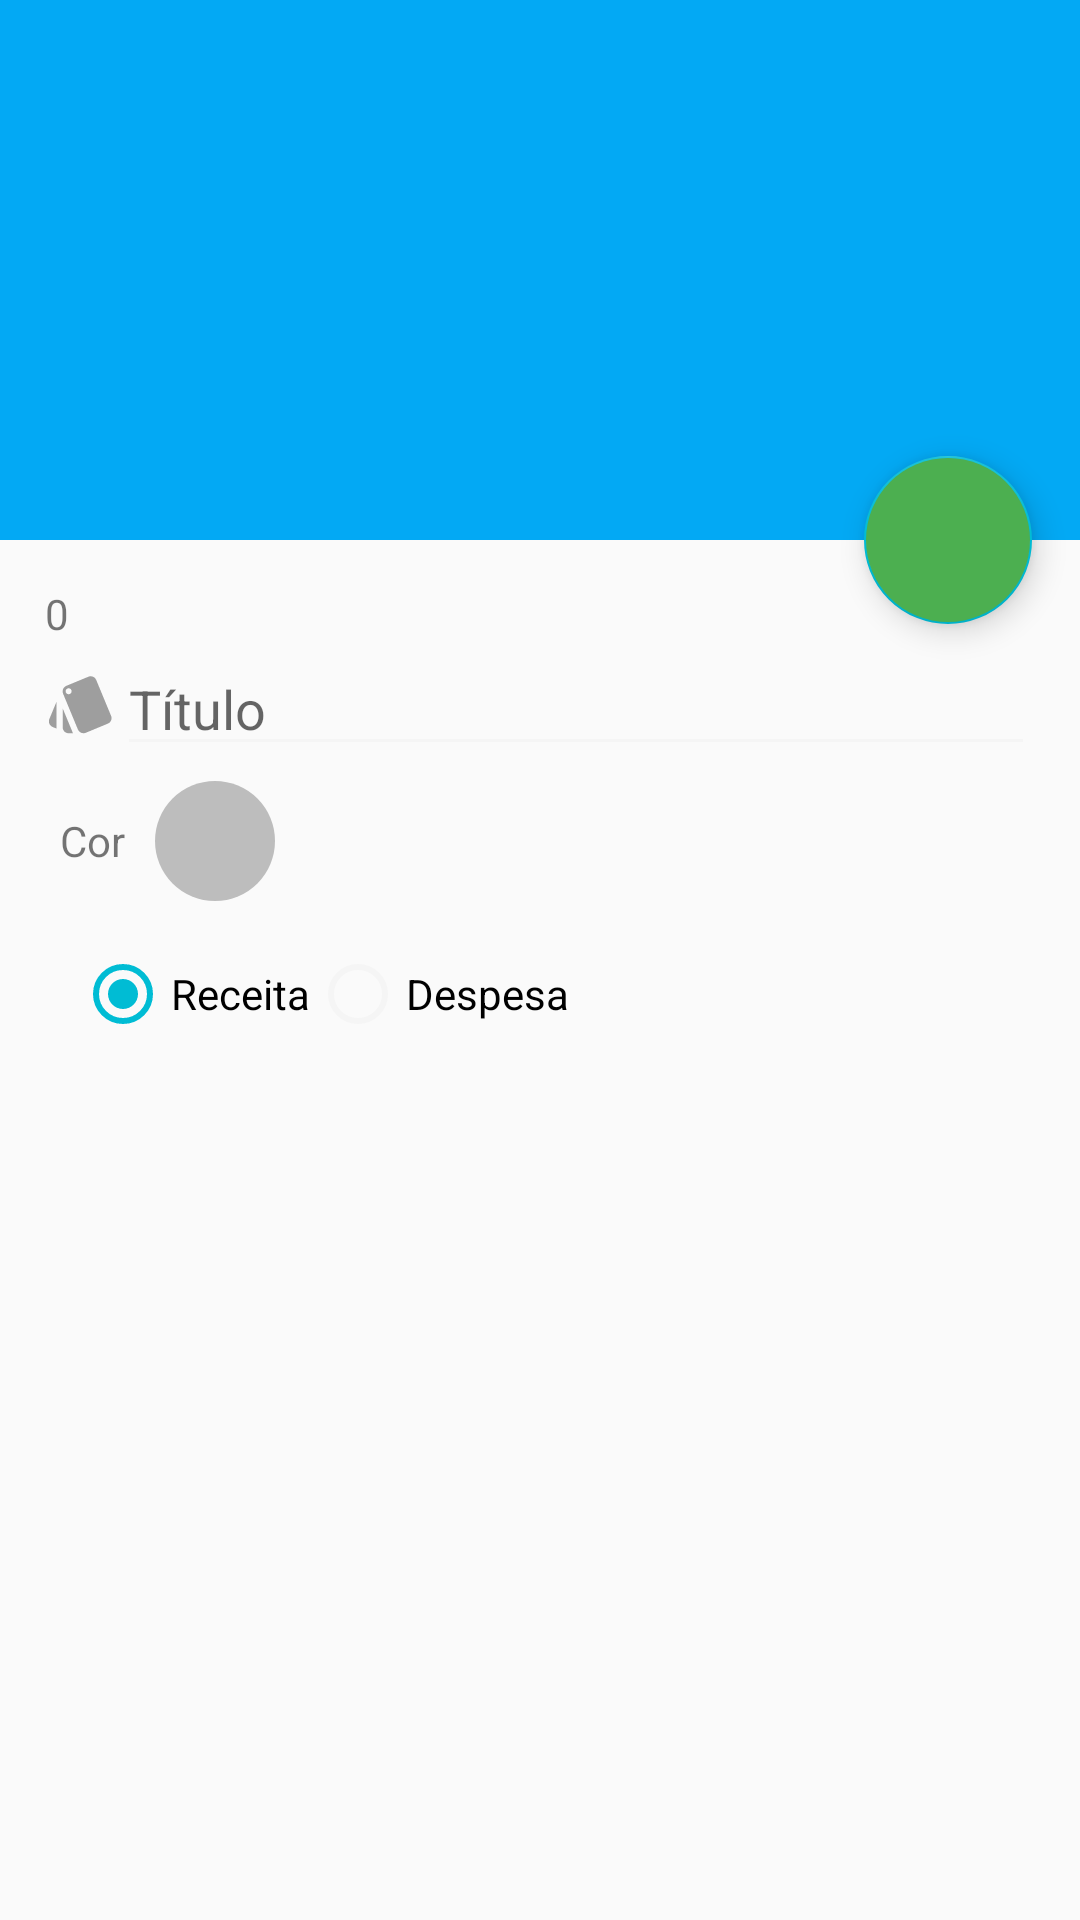

Screen size 1080×1920. Icon name, then its box in pixels as (x1, y1, x2, y2):
categorias: (49, 676, 112, 733)
